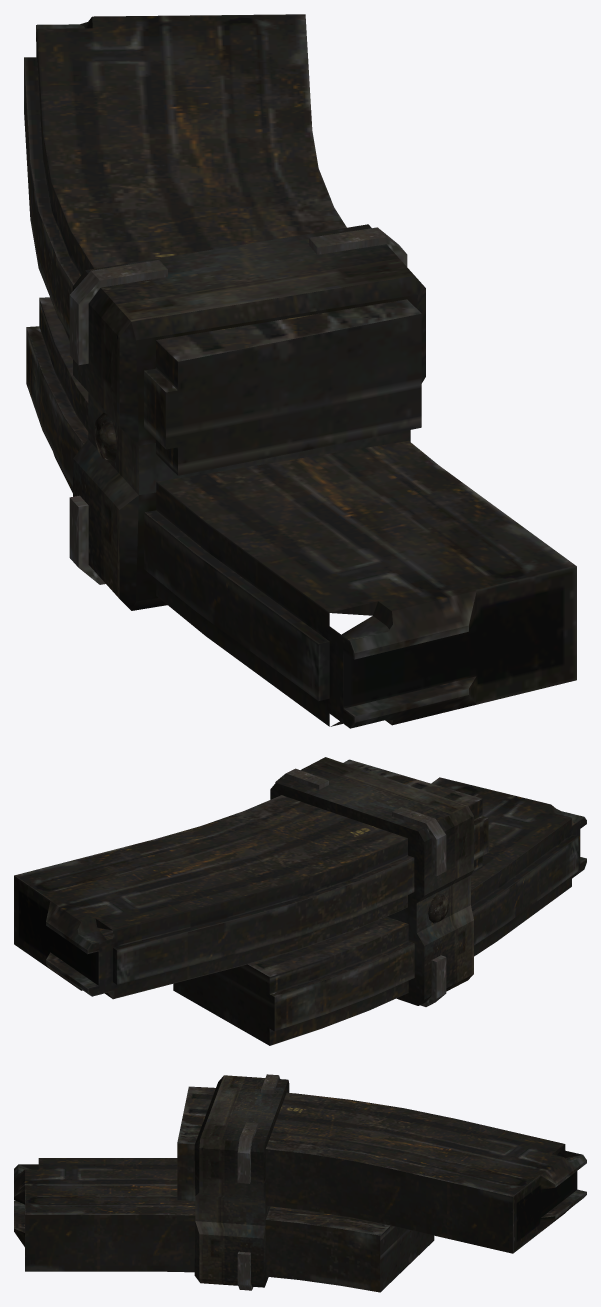
Rendered from t6_attach_fastmag_hk416_view_LOD0.obj.
3 renders of one model, top to bottom at view 1: azimuth 30°, elevation 25°; view 2: azimuth 150°, elevation 25°; view 3: azimuth 270°, elevation 25°, orthographic. The views are drawn at different scales.
Visible parts, largest first — view 1: mtl_t6_wpn_ar_hk416_camo2, mtl_t6_wpn_ar_hk416_camo4; view 2: mtl_t6_wpn_ar_hk416_camo2, mtl_t6_wpn_ar_hk416_camo4; view 3: mtl_t6_wpn_ar_hk416_camo2, mtl_t6_wpn_ar_hk416_camo4.
Part boxes in pixels (x1,y1,x2,y2): mtl_t6_wpn_ar_hk416_camo2: (24,14,576,728); mtl_t6_wpn_ar_hk416_camo4: (24,26,406,728); mtl_t6_wpn_ar_hk416_camo2: (14,757,586,1045); mtl_t6_wpn_ar_hk416_camo4: (87,768,586,1045); mtl_t6_wpn_ar_hk416_camo2: (14,1075,586,1292); mtl_t6_wpn_ar_hk416_camo4: (18,1074,582,1290).
Size of the model in its own units: 11.43 by 7.01 by 23.94.
